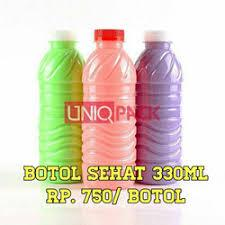BIODEGRADABLE: (86, 26, 141, 182), (138, 30, 192, 188), (37, 28, 85, 181)
